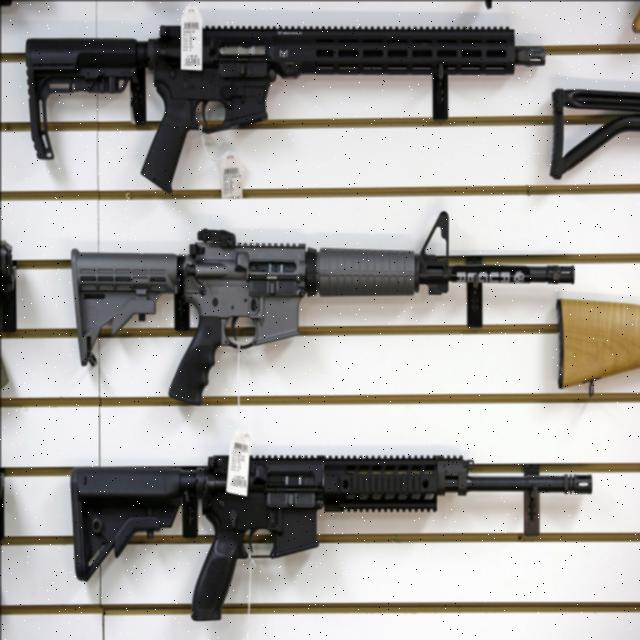Automaticrifle: (54, 224, 572, 424), (7, 21, 543, 197), (69, 444, 595, 602)
